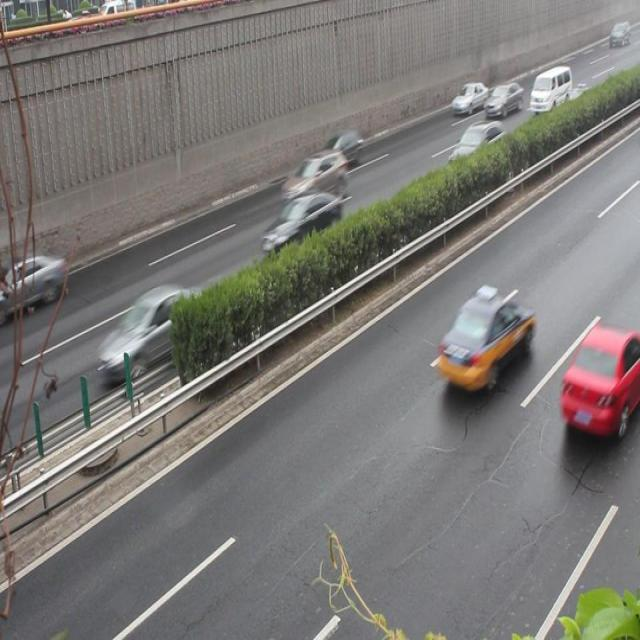car: (96, 283, 205, 376), (435, 289, 528, 392), (557, 324, 639, 435), (259, 190, 340, 250), (0, 245, 65, 313), (279, 148, 344, 203), (446, 118, 503, 170), (311, 127, 359, 168), (482, 78, 519, 115), (448, 81, 485, 115)
